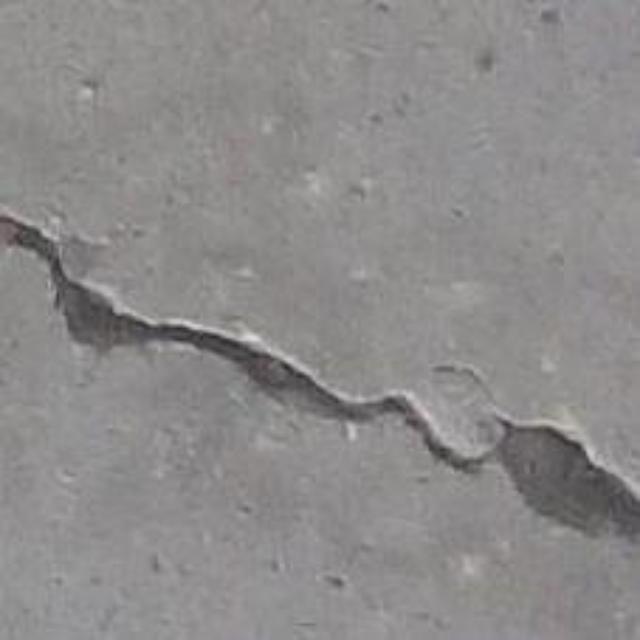crack: (0, 215, 639, 541)
